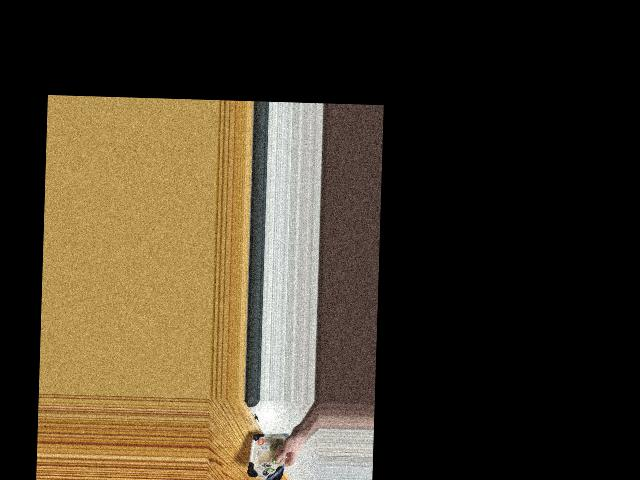cheese: (251, 426, 288, 480)
